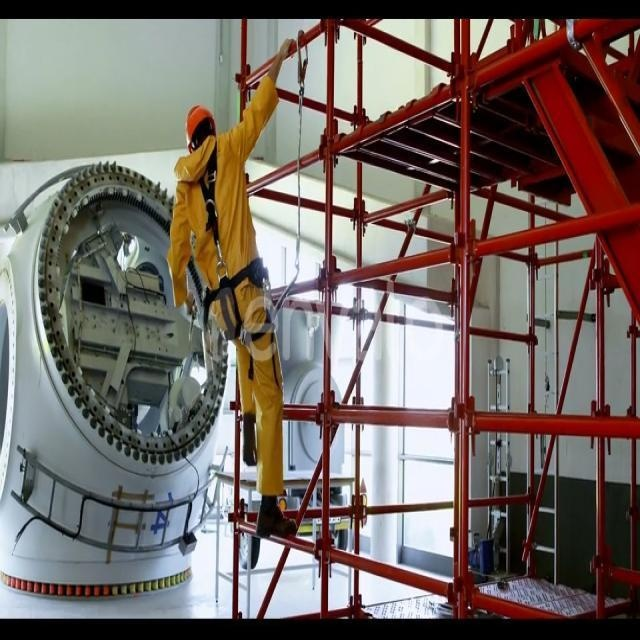Arnes_seguridad: (191, 142, 280, 366)
